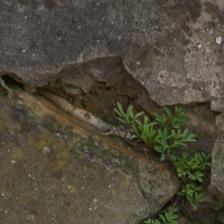Crack: (39, 51, 219, 117)
